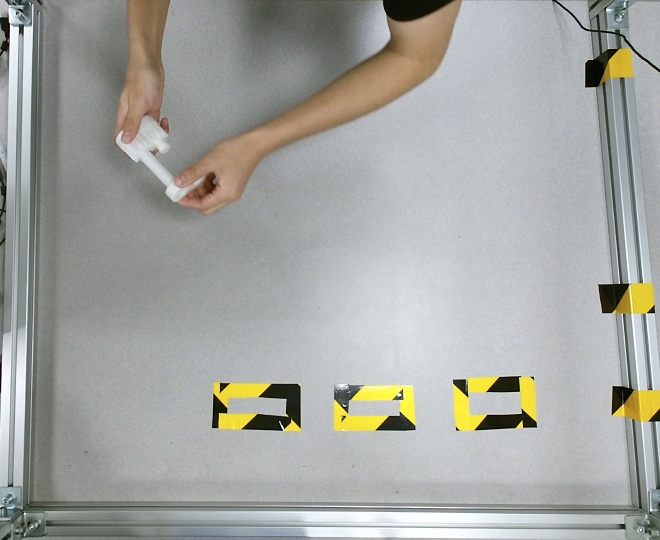stage_3: (116, 115, 177, 188)
